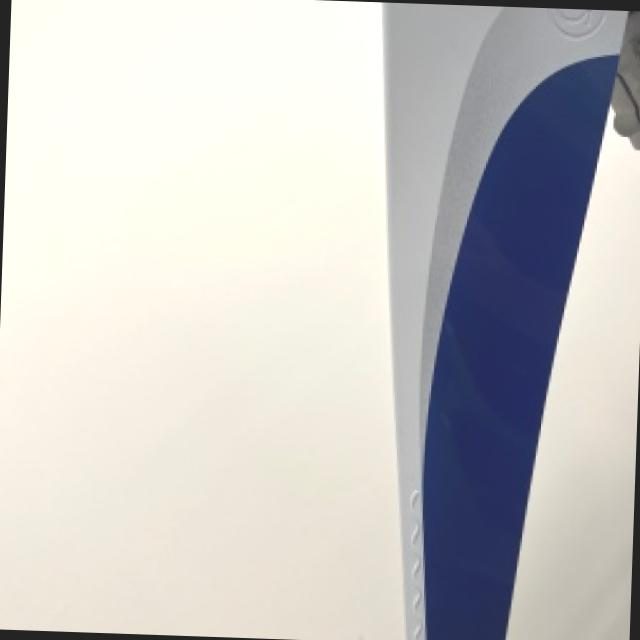healthy: (380, 2, 623, 640)
